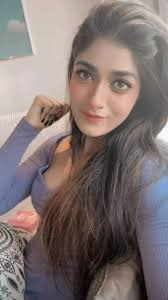Human_Female: (66, 8, 162, 257)
